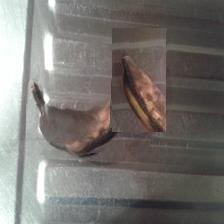Banana Rotten: (26, 71, 154, 157), (113, 28, 168, 132)
